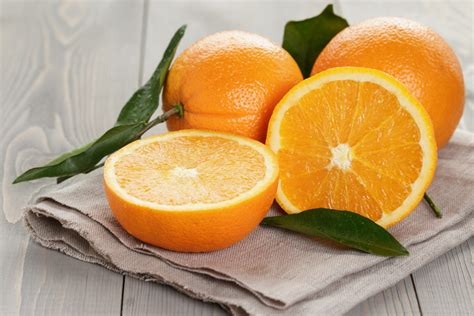orange: (314, 19, 465, 148), (158, 28, 304, 144)
